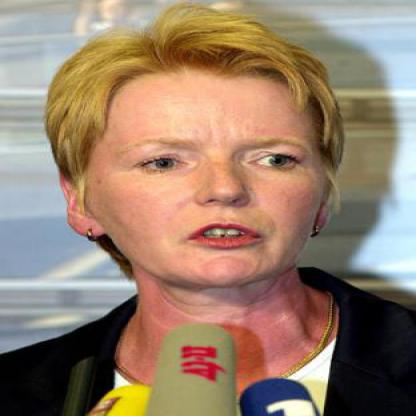face: (83, 46, 328, 289)
